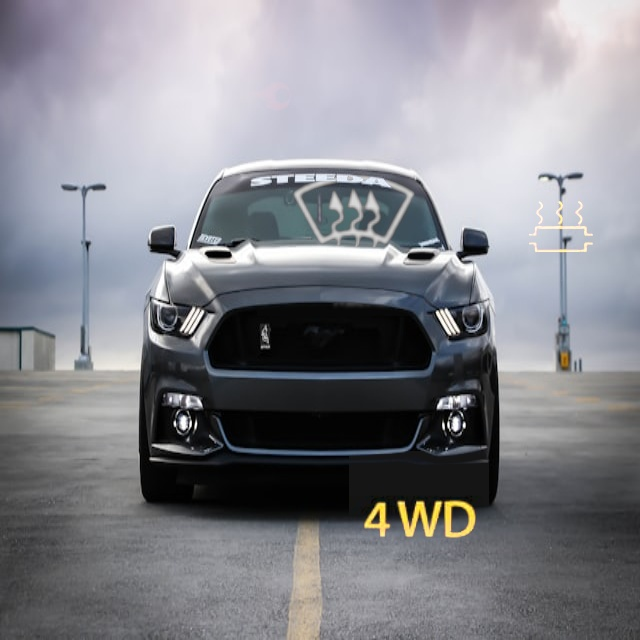symbol: (257, 119, 454, 316), (349, 451, 489, 591), (188, 17, 315, 144), (498, 164, 624, 290)
